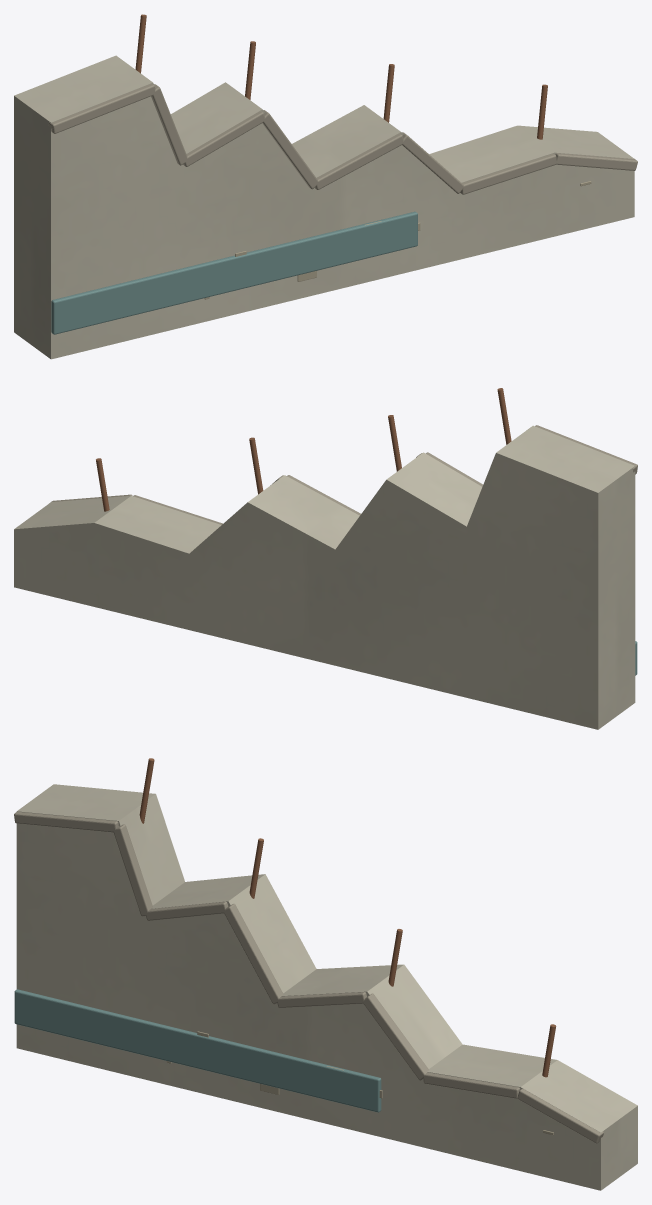
File: Wall_Eroded_Low.glb
3 renders of one model, top to bottom at view 1: azimuth 30°, elevation 25°; view 2: azimuth 150°, elevation 25°; view 3: azimuth 330°, elevation 25°, orthographic.
Visible parts, largest first — view 1: Wall_Eroded_Low; view 2: Wall_Eroded_Low; view 3: Wall_Eroded_Low.
Part boxes in pixels (x1,y1,x2,y2): Wall_Eroded_Low: (14,14,637,359); Wall_Eroded_Low: (14,388,637,729); Wall_Eroded_Low: (14,758,637,1190).
Bounding box in the file's own units: 4.01 × 1.97 × 0.4725.
5 materials, 4 textured.
